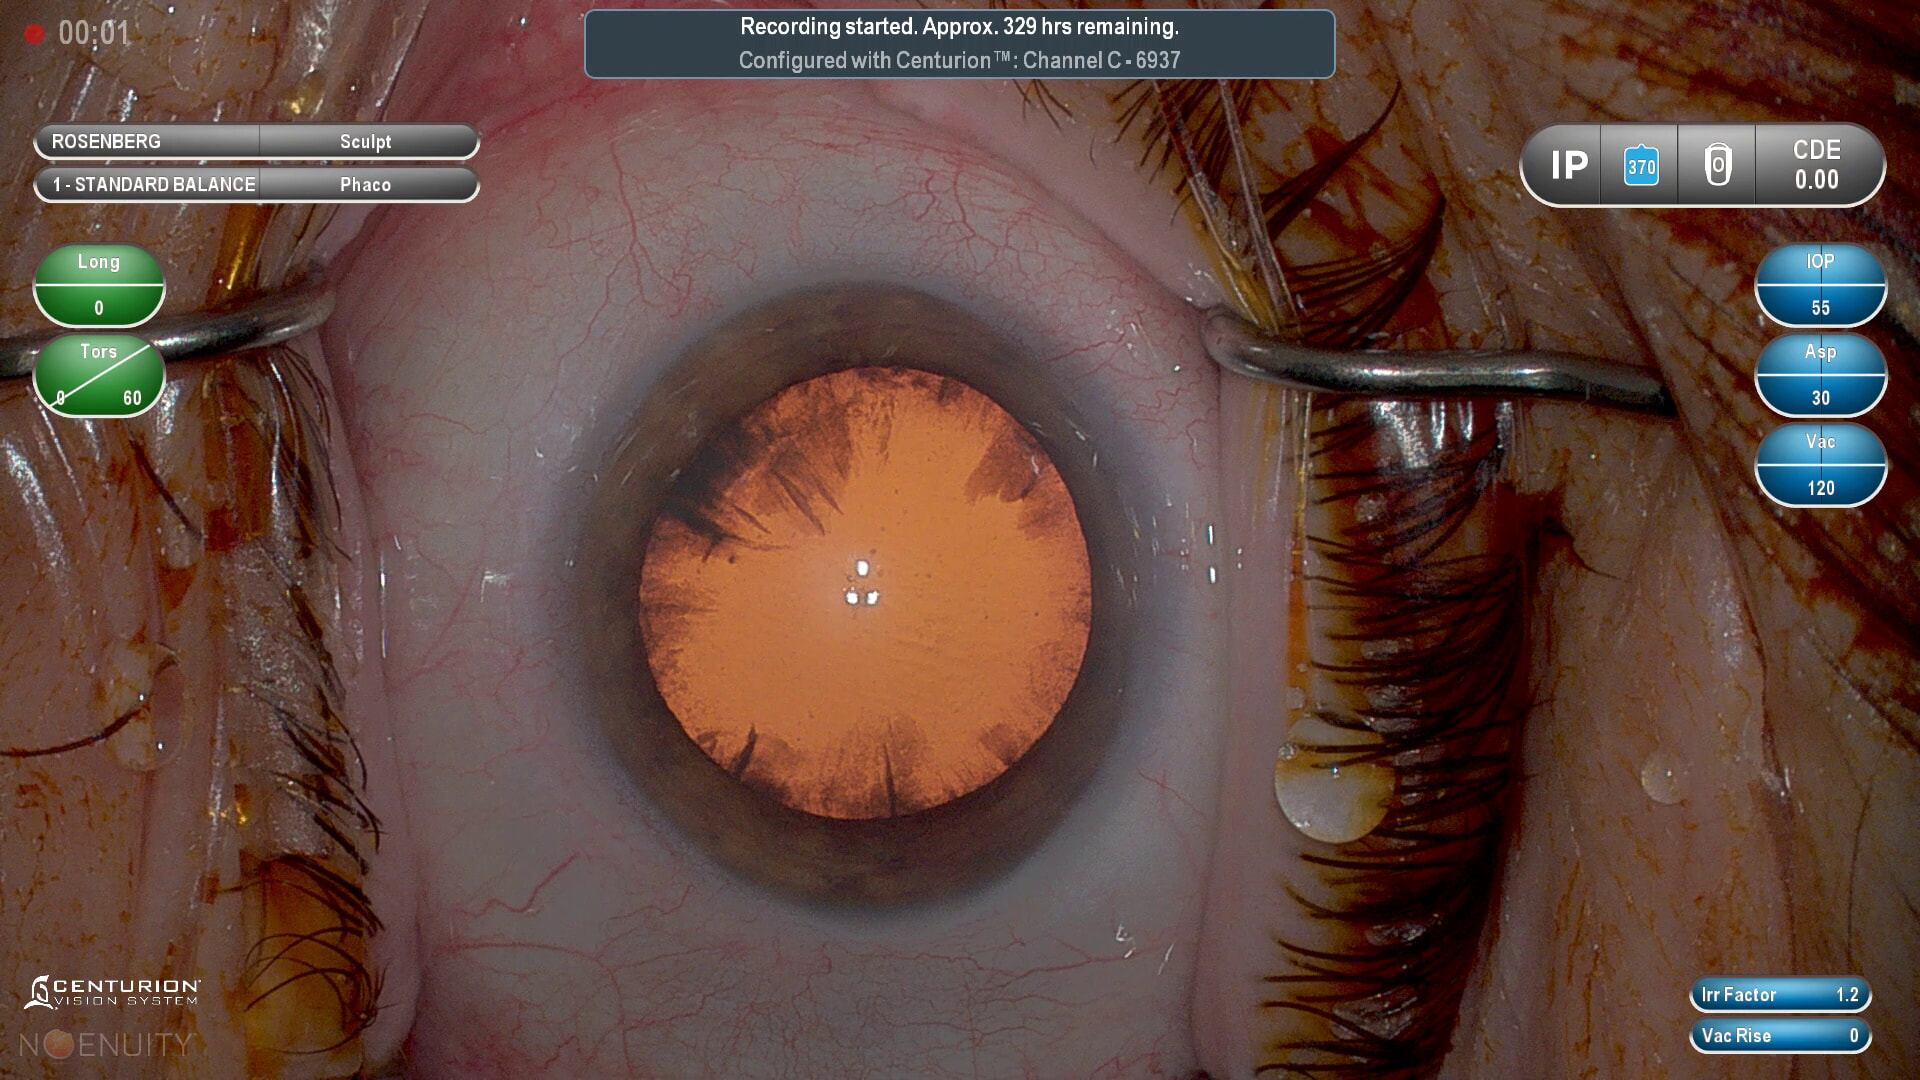iris: (583, 283, 1149, 914)
pupil: (633, 363, 1094, 817)
